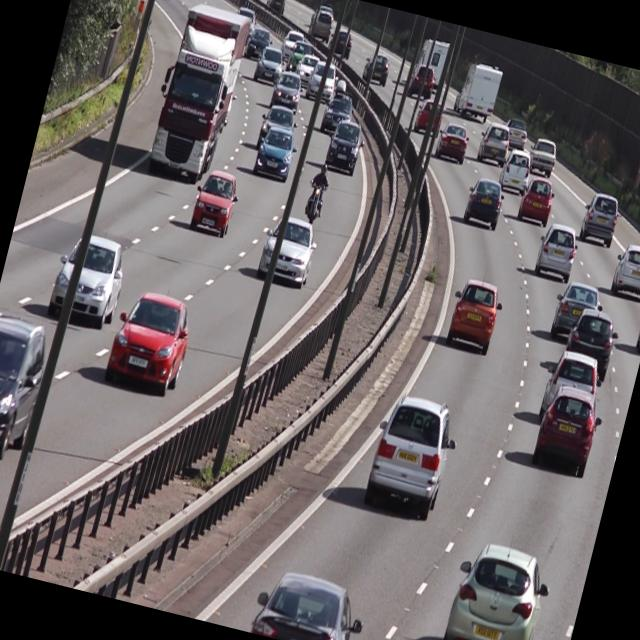Vehicle: (138, 0, 251, 186), (358, 385, 466, 523), (433, 539, 555, 640), (99, 282, 199, 398), (245, 564, 370, 640), (48, 224, 132, 330), (0, 312, 52, 466), (527, 387, 605, 480), (440, 272, 507, 358), (556, 306, 624, 386), (252, 212, 320, 292), (185, 162, 242, 240), (538, 351, 602, 418), (450, 54, 504, 123), (530, 220, 584, 284), (458, 172, 511, 234), (250, 122, 301, 184), (575, 188, 623, 250), (320, 116, 368, 176), (513, 172, 558, 229), (603, 235, 640, 303), (317, 77, 358, 136), (472, 118, 514, 167), (495, 145, 535, 195), (432, 119, 472, 166), (523, 133, 562, 180), (266, 68, 305, 115), (250, 41, 288, 86), (304, 58, 338, 104), (358, 48, 393, 90), (412, 97, 444, 138), (405, 60, 437, 101), (499, 115, 532, 150), (632, 282, 640, 354)
